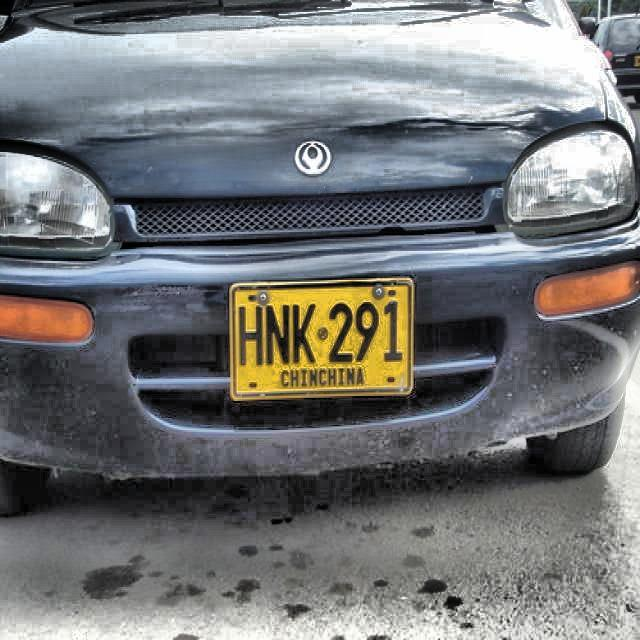plate: (233, 281, 411, 398)
